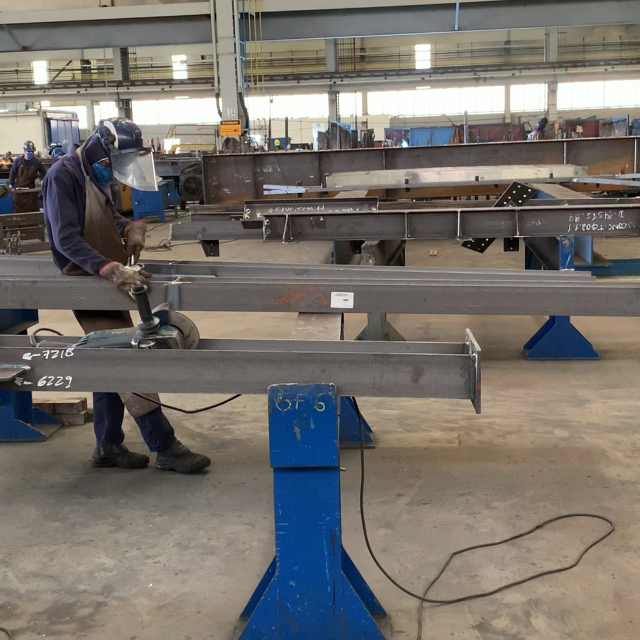face-shield: (109, 147, 158, 191)
glove: (108, 264, 154, 301), (122, 222, 145, 254)
helmet: (94, 117, 145, 148)
person: (42, 115, 160, 301)
safety-shoe: (154, 435, 213, 475), (93, 441, 152, 476)
